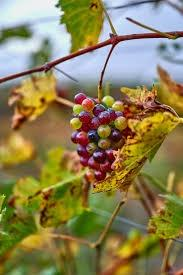Grape Overripe: (71, 93, 129, 180)
